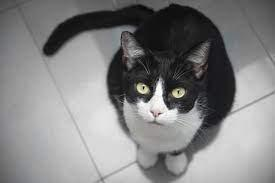Cat: (120, 28, 212, 122)
